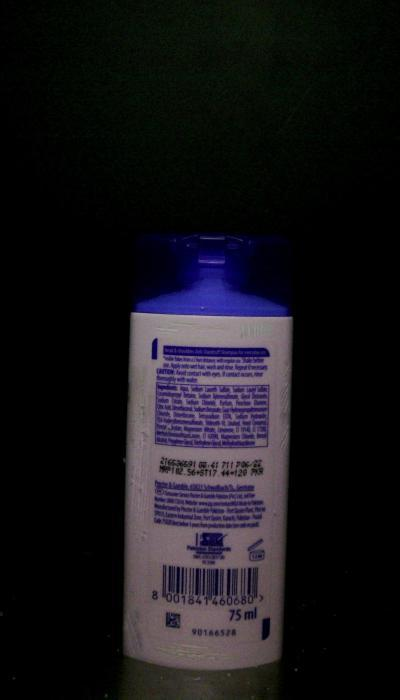scuff_unacc: (125, 366, 150, 552), (142, 635, 236, 669), (144, 318, 231, 340), (123, 590, 148, 656), (278, 350, 288, 461), (240, 321, 270, 343), (271, 505, 284, 538)
